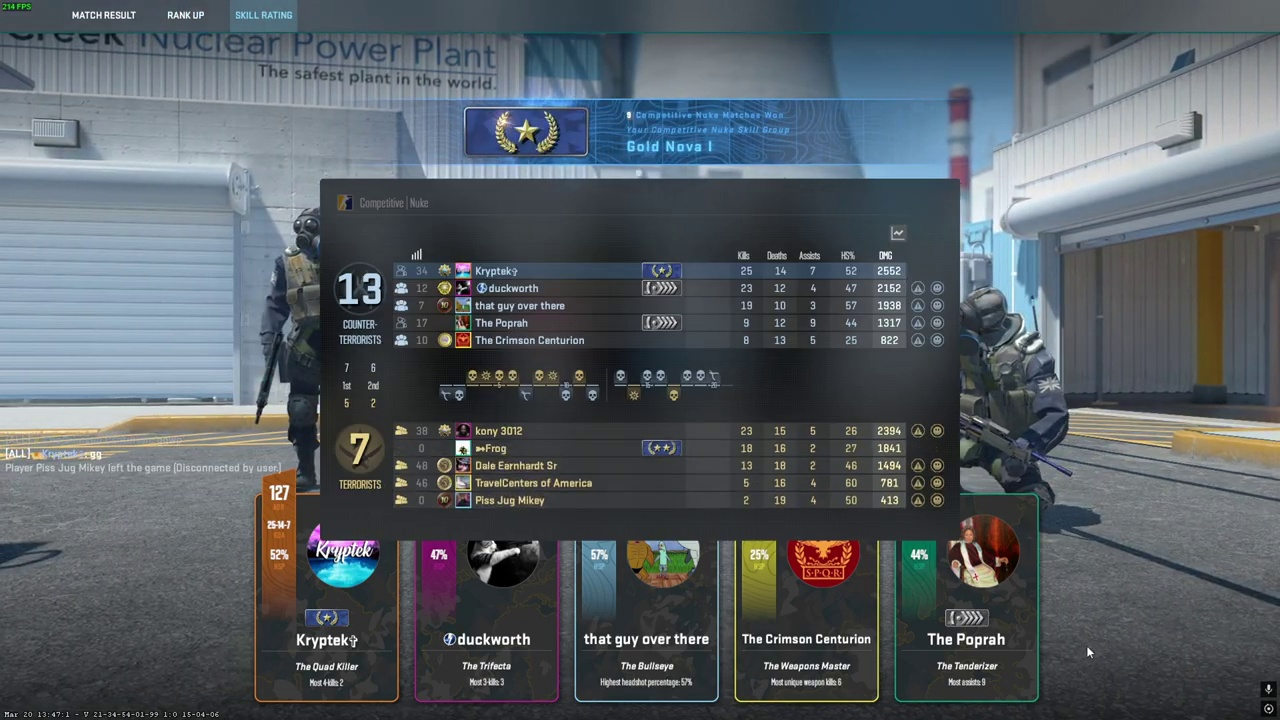CT: (957, 285, 1062, 525), (271, 206, 324, 484)
